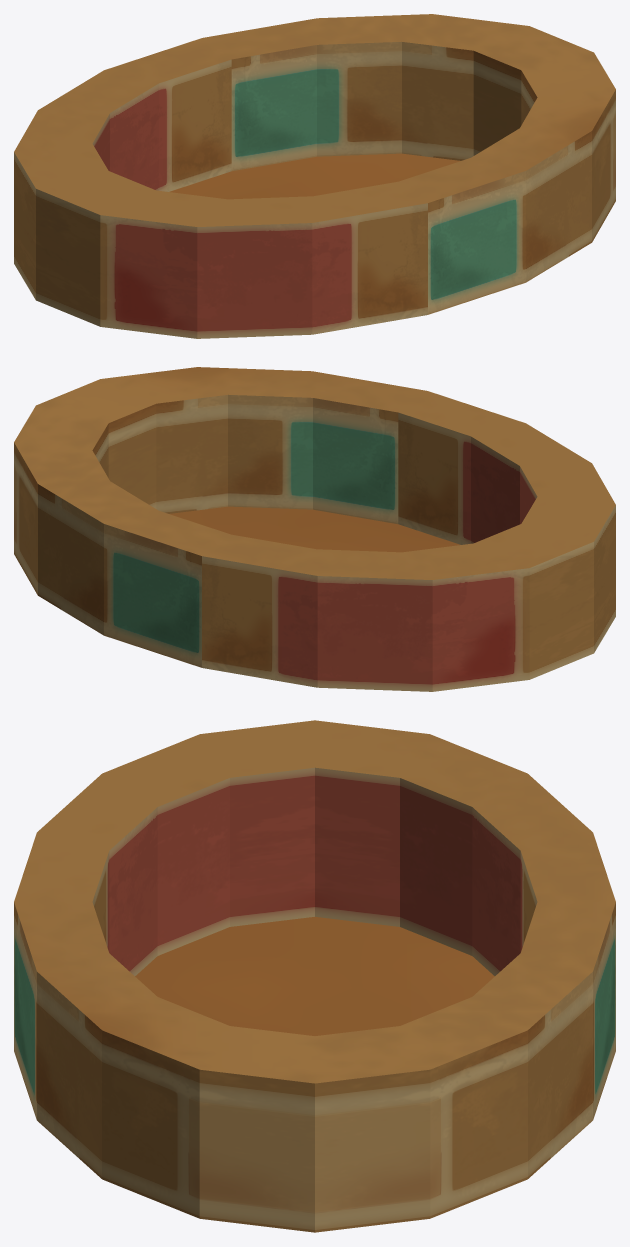
File: MayanTraphole 1.fbx
3 views of the same model, one above another, from view 1: azimuth 30°, elevation 25°; view 2: azimuth 150°, elevation 25°; view 3: azimuth 270°, elevation 25° (orthographic). The views are drawn at different scales.
Parts seen in each view (by area): view 1: Circle.008; view 2: Circle.008; view 3: Circle.008.
Boxes of the visible parts, left/top/right/bottom form: Circle.008: left=14, top=14, right=615, bottom=338; Circle.008: left=14, top=367, right=615, bottom=691; Circle.008: left=14, top=720, right=615, bottom=1232.
Bounding box in the file's own units: 356 × 68.19 × 250.
Materials: 1 (1 with a texture image).
